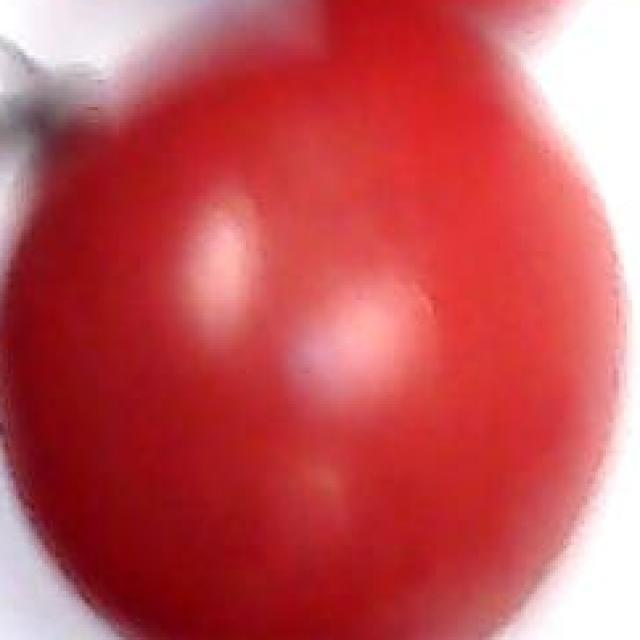Healthy: (11, 46, 624, 640)
